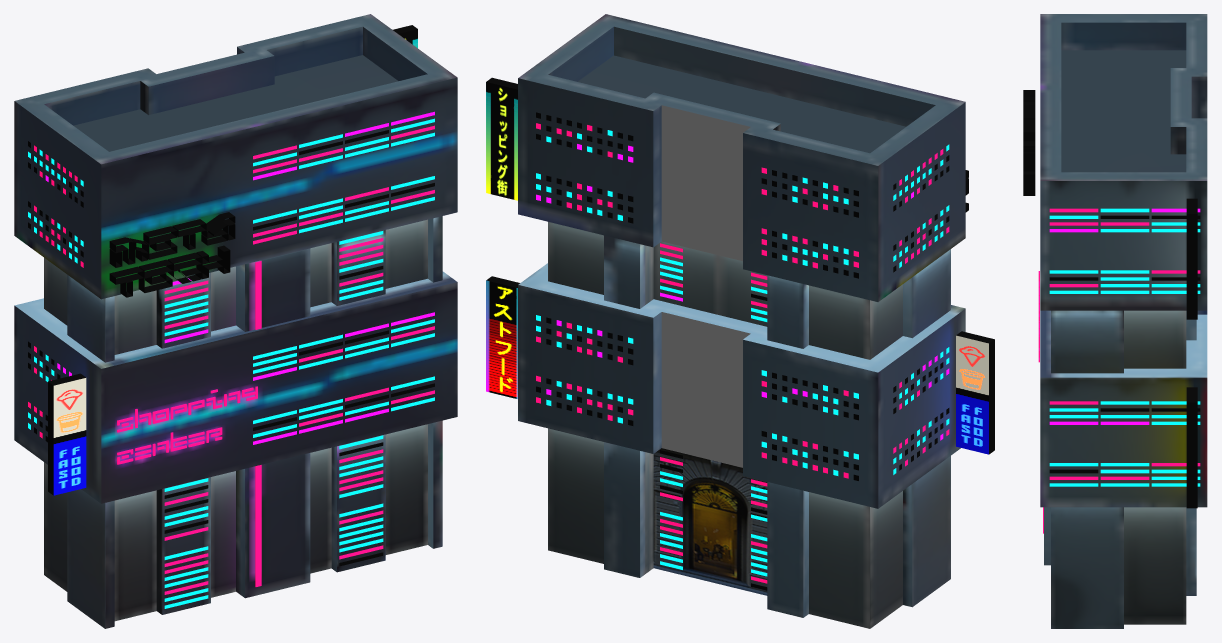
Rendered from BLD1310013.fbx.
3 renders of one model, left to right at view 1: azimuth 30°, elevation 25°; view 2: azimuth 150°, elevation 25°; view 3: azimuth 270°, elevation 25°, orthographic. The views are drawn at different scales.
Parts seen in each view (by area): view 1: smBLD1310013; view 2: smBLD1310013; view 3: smBLD1310013.
Part boxes in pixels (left/top/right/bottom): smBLD1310013: left=14, top=14, right=457, bottom=628; smBLD1310013: left=486, top=14, right=994, bottom=628; smBLD1310013: left=1023, top=14, right=1207, bottom=628.
Bounding box in the file's own units: 1165 × 1216 × 449.
Materials: 4 (2 with a texture image).
